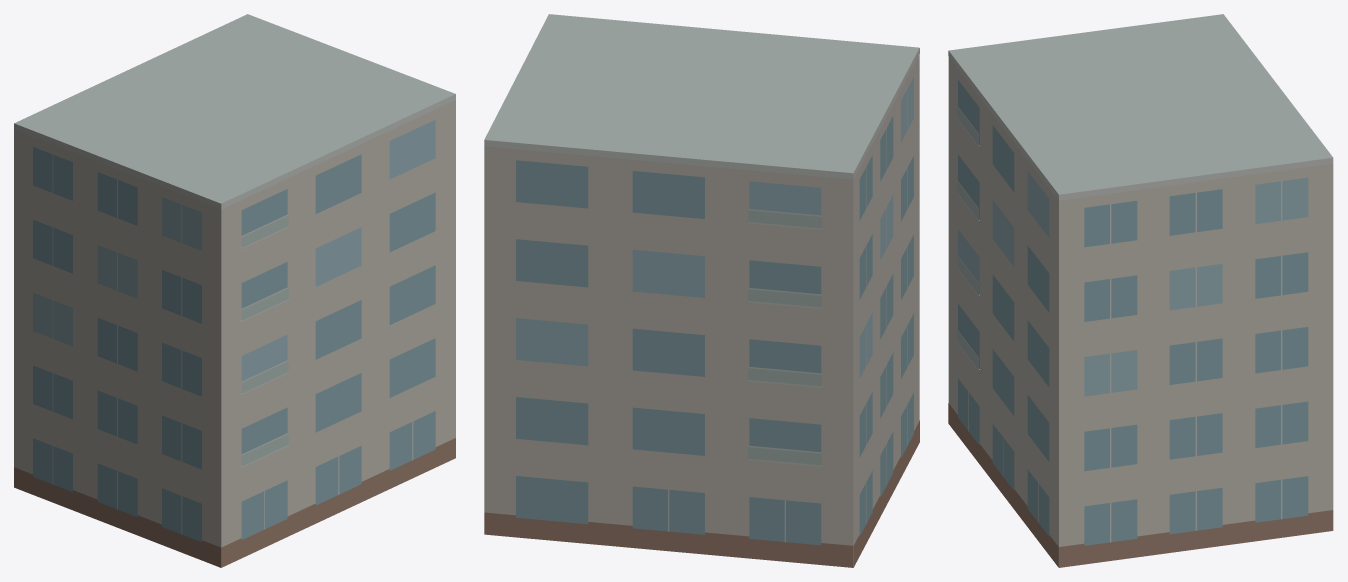
File: survey-upis-32927979.glb
3 views of the same model, side by side, from view 1: azimuth 30°, elevation 25°; view 2: azimuth 150°, elevation 25°; view 3: azimuth 270°, elevation 25° (orthographic). The views are drawn at different scales.
Parts seen in each view (by area): view 1: survey-upis-32927979.tmp; view 2: survey-upis-32927979.tmp; view 3: survey-upis-32927979.tmp.
Boxes of the visible parts, x1,y1,x2,y2 form: survey-upis-32927979.tmp: (14, 14, 455, 567); survey-upis-32927979.tmp: (484, 14, 919, 567); survey-upis-32927979.tmp: (948, 14, 1333, 567).
Bounding box in the file's own units: 15.8 × 15.2 × 14.22.
